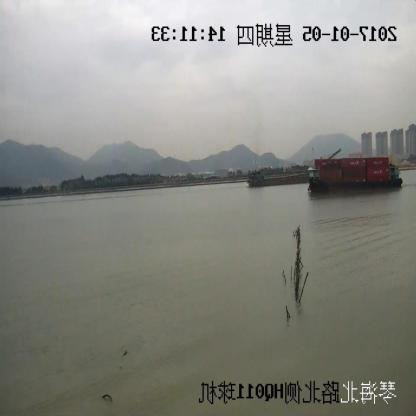Container Ship: (308, 156, 402, 195)
